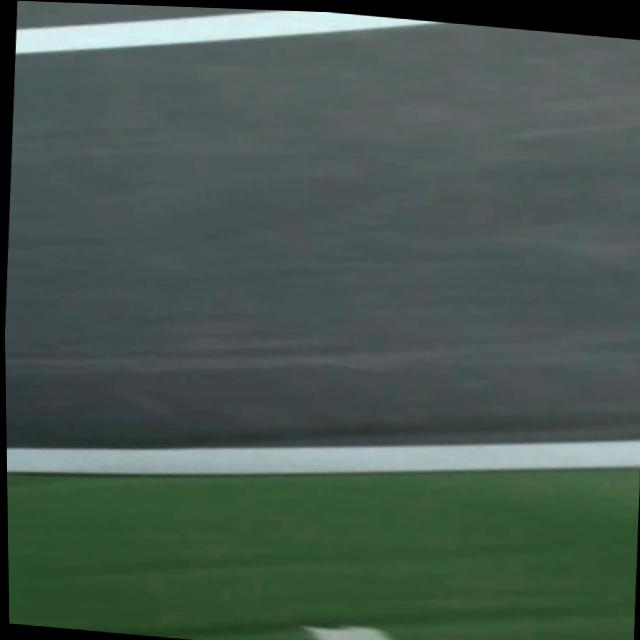center: (14, 10, 447, 53)
right: (7, 440, 640, 474)
